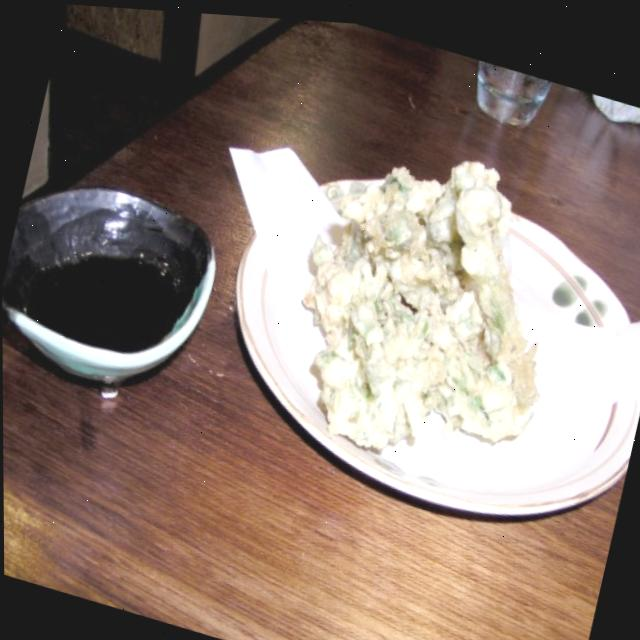蔬菜料理: (218, 72, 620, 528)
